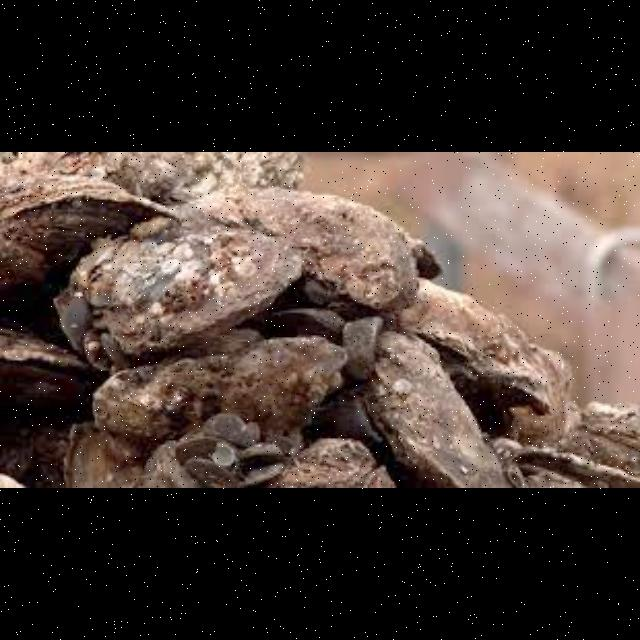Oyster-Closed: (399, 280, 579, 445), (181, 188, 416, 311), (85, 235, 296, 349), (365, 332, 505, 486), (0, 174, 176, 291), (0, 153, 301, 203), (222, 337, 346, 453), (94, 358, 231, 438), (274, 438, 395, 488), (66, 423, 142, 488), (580, 402, 640, 476), (0, 328, 89, 370), (174, 325, 276, 355)
Oyster-Open: (162, 428, 254, 488), (234, 437, 286, 489)
